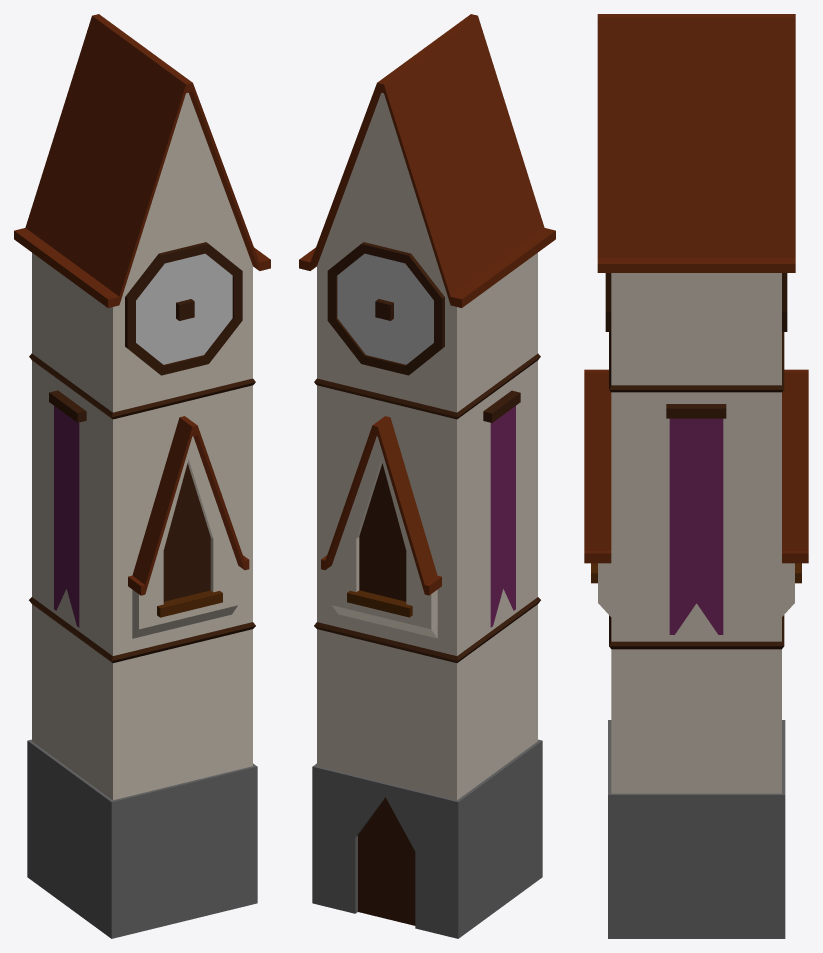
File: ClockTowerv2.fbx
The picture shows the model from 3 angles, left to right: view 1: azimuth 30°, elevation 25°; view 2: azimuth 150°, elevation 25°; view 3: azimuth 270°, elevation 25°; orthographic projection. The views are drawn at different scales.
Visible parts, largest first — view 1: Plane.430; view 2: Plane.430; view 3: Plane.430.
Part boxes in pixels (<box>): Plane.430: <box>14,14,270,938</box>; Plane.430: <box>299,14,555,938</box>; Plane.430: <box>584,14,808,938</box>.
Bounding box in the file's own units: 57.54 × 284 × 65.26.
